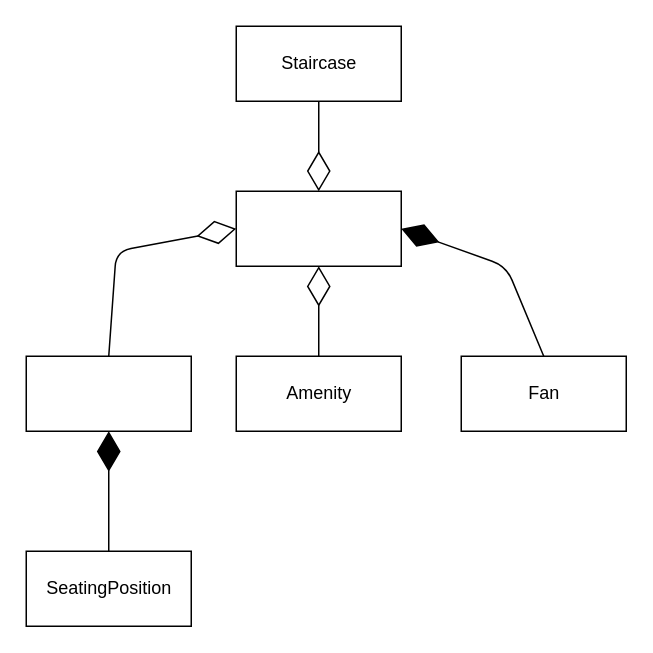
This 653x653 diagram has some shape labels left out. The centre of each missing label's shape, as x and y in pixels:
"Bench" belongs at (108,393).
"Stadium" belongs at (318,228).
